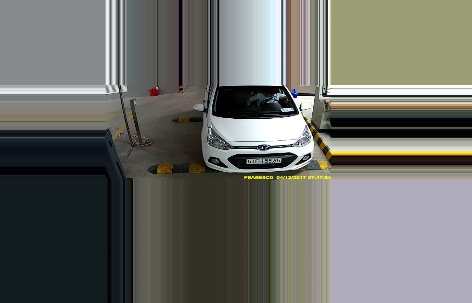plate: (245, 154, 282, 166)
